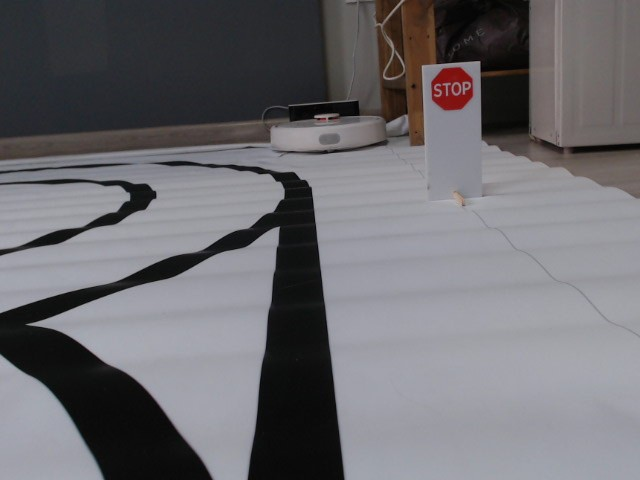Stop: (430, 66, 474, 112)
